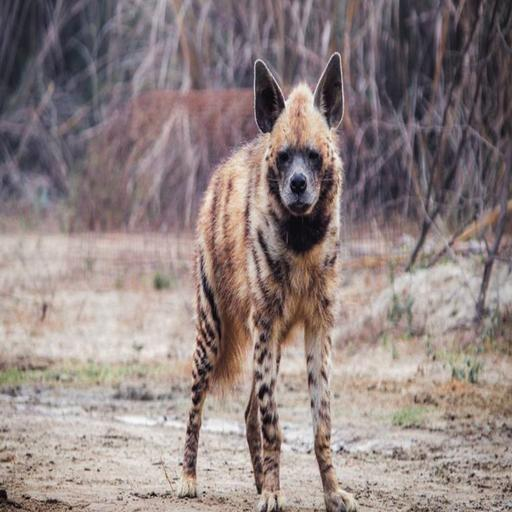Hyena: (178, 47, 366, 512)
